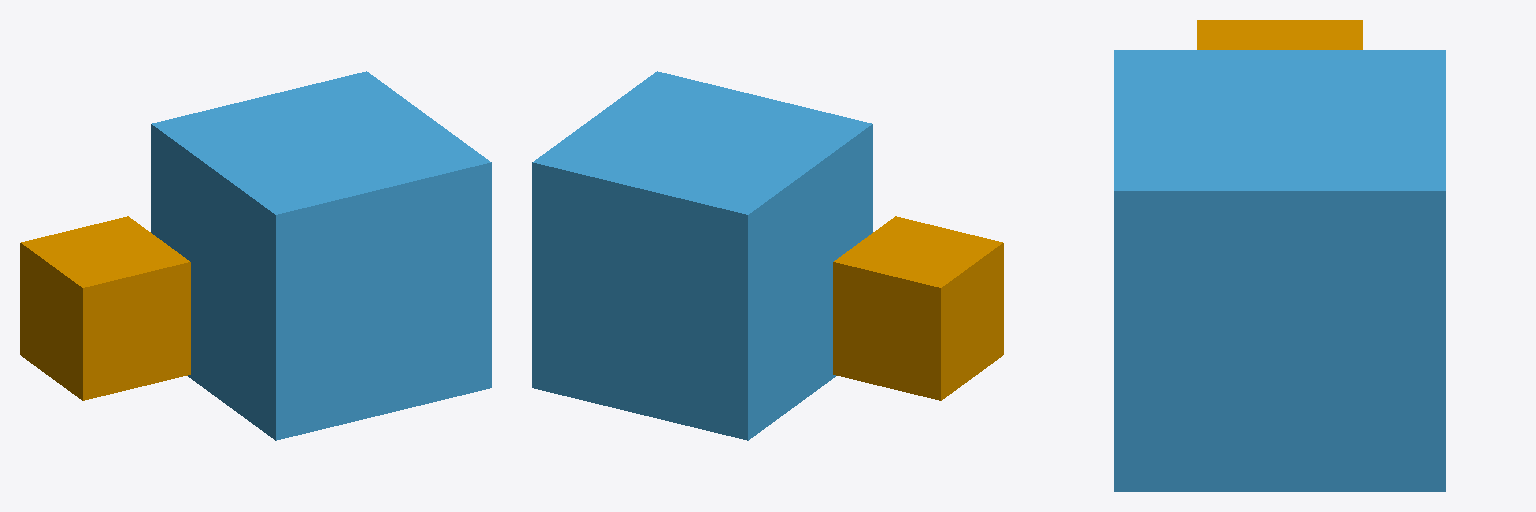
URDF robot description (ros_packages):
<?xml version="1.0"?>
<robot name="ros_packages">
  <material name="texture_material">
    <texture filename="package://test_texture_package/assets/grid.png"/>
  </material>

  <link name="BaseLink">
    <visual>
      <geometry>
        <box size="0.5 0.5 0.5"/>
      </geometry>
      <material name="texture_material"/>
    </visual>
  </link>
  <link name="link_mesh_stl">
    <visual>
      <geometry>
        <mesh filename="package://test_package/assets/box.stl"/>
      </geometry>
    </visual>
  </link>

  <joint name="root_joint" type="fixed">
    <origin rpy="0 0 0" xyz="1 0 0"/>
    <parent link="BaseLink"/>
    <child link="link_mesh_stl"/>
  </joint>
</robot> 

--- What the picture shows (computed from the rendered views, not written in the file) ---
The picture shows the robot from 3 angles, left to right: view 1: azimuth 30°, elevation 25°; view 2: azimuth 150°, elevation 25°; view 3: azimuth 270°, elevation 25°; orthographic projection.
Model ros_packages with 2 links and 1 joints (1 fixed), rooted at BaseLink, posed every joint at zero.
Visible links, largest first — view 1: link_mesh_stl, BaseLink; view 2: link_mesh_stl, BaseLink; view 3: link_mesh_stl, BaseLink.
Boxes of the visible links, left/top/right/bottom form: link_mesh_stl: left=151, top=71, right=491, bottom=440; BaseLink: left=20, top=216, right=190, bottom=400; link_mesh_stl: left=532, top=71, right=872, bottom=440; BaseLink: left=833, top=216, right=1003, bottom=400; link_mesh_stl: left=1114, top=50, right=1445, bottom=491; BaseLink: left=1197, top=20, right=1362, bottom=49.
Size in the robot's own frame: 1.75 by 1 by 1 metres.
Meshes: 1 distinct files referenced, 1 mesh visuals loaded (1 ASCII STL).